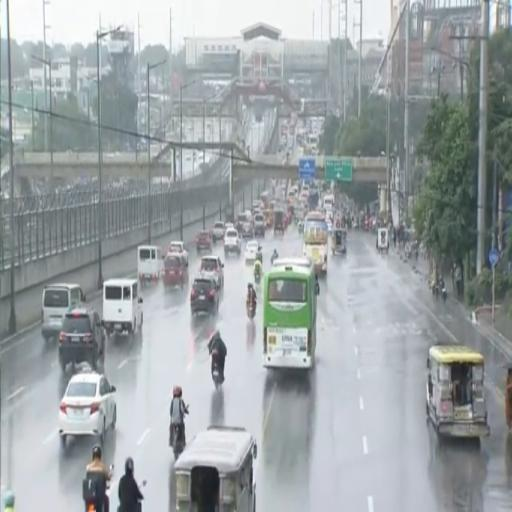bus: (263, 259, 319, 369), (303, 212, 328, 275), (307, 134, 318, 153)
car: (59, 372, 116, 446), (59, 308, 105, 372), (191, 277, 219, 316), (163, 254, 188, 287), (200, 255, 223, 290), (224, 229, 241, 255), (168, 242, 188, 264), (196, 229, 212, 253), (212, 221, 226, 243), (245, 240, 259, 262), (254, 214, 265, 237), (225, 222, 235, 231)
jeepney: (175, 426, 257, 511), (427, 345, 489, 438), (263, 210, 273, 228)
motorcycle: (83, 477, 110, 511), (170, 424, 185, 460), (212, 352, 223, 389), (246, 303, 256, 320), (431, 282, 440, 300), (439, 282, 447, 302), (254, 270, 260, 284), (271, 253, 278, 264), (298, 222, 303, 234)
